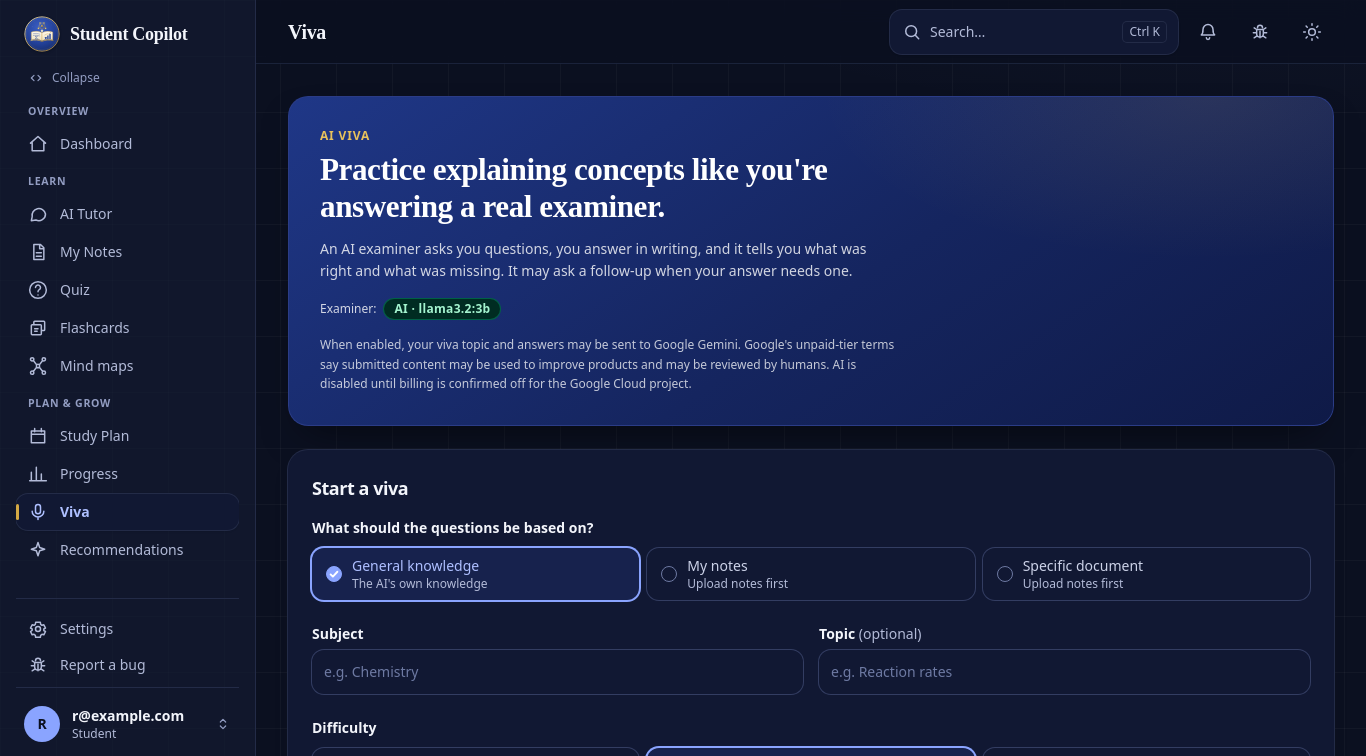
setup › shows the server's message when starting fails, and the form is still usable
Type "Chemistry" into the field labelled "Subject" at (558, 672), box [312,650,803,694]
(page scrolled)
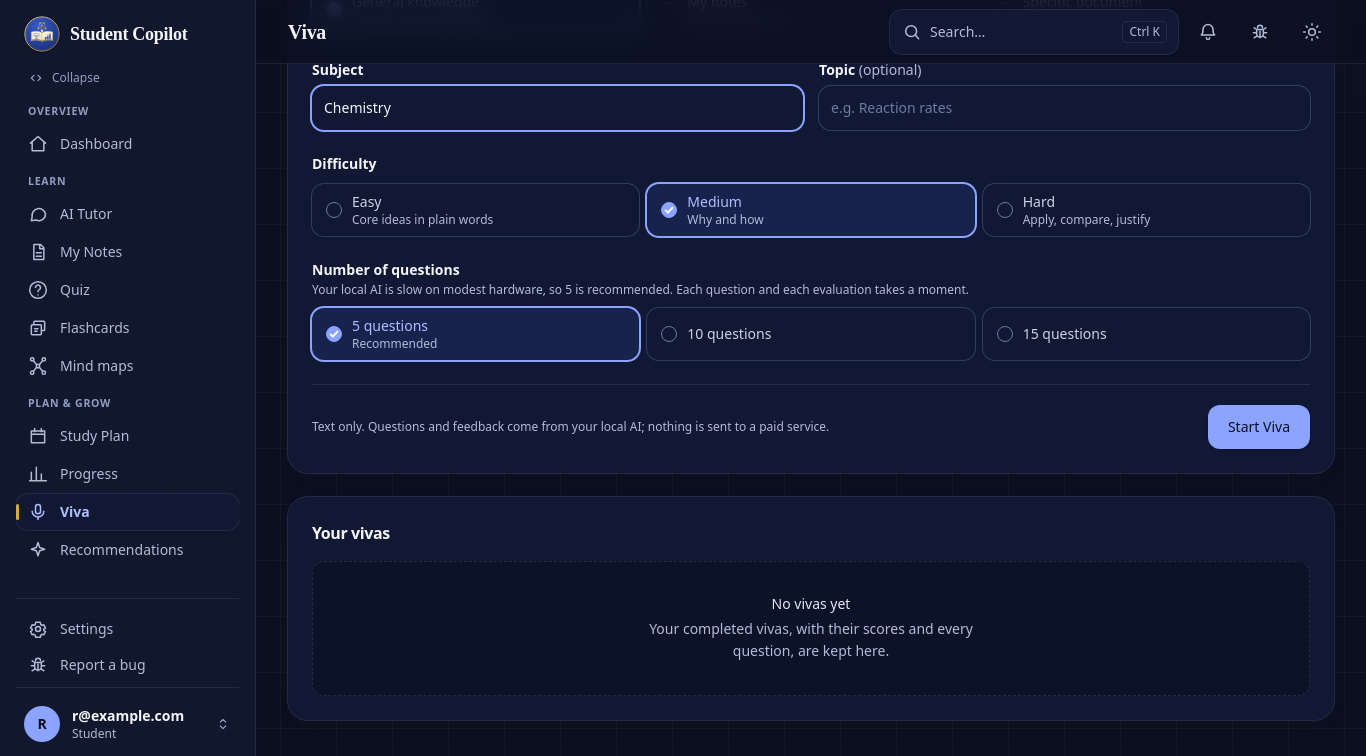
Click the button "Start Viva" at (1259, 427), box [1208,405,1310,449]
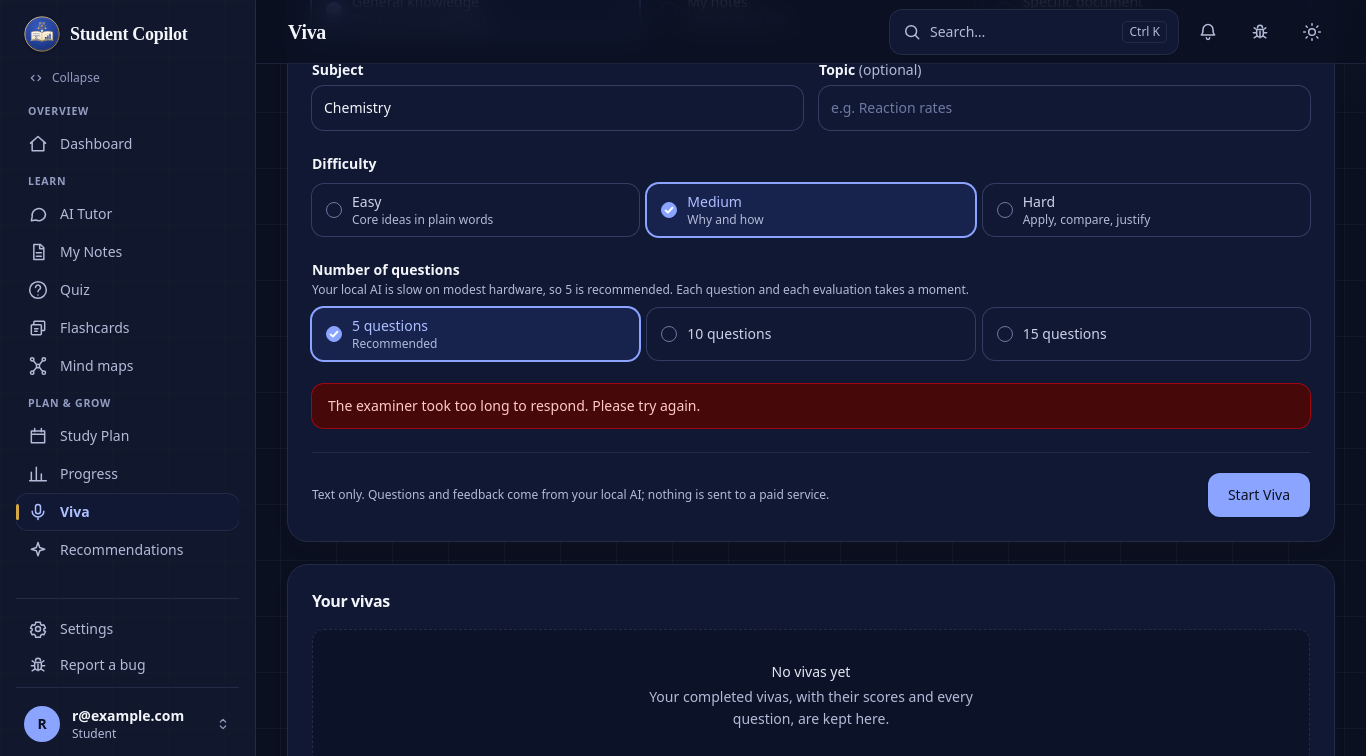
Now the text "The examiner took too long to respond. Please try again." is shown, box [312,384,1310,428]
Click the button "Start Viva" at (1259, 495), box [1208,473,1310,517]
(page scrolled)
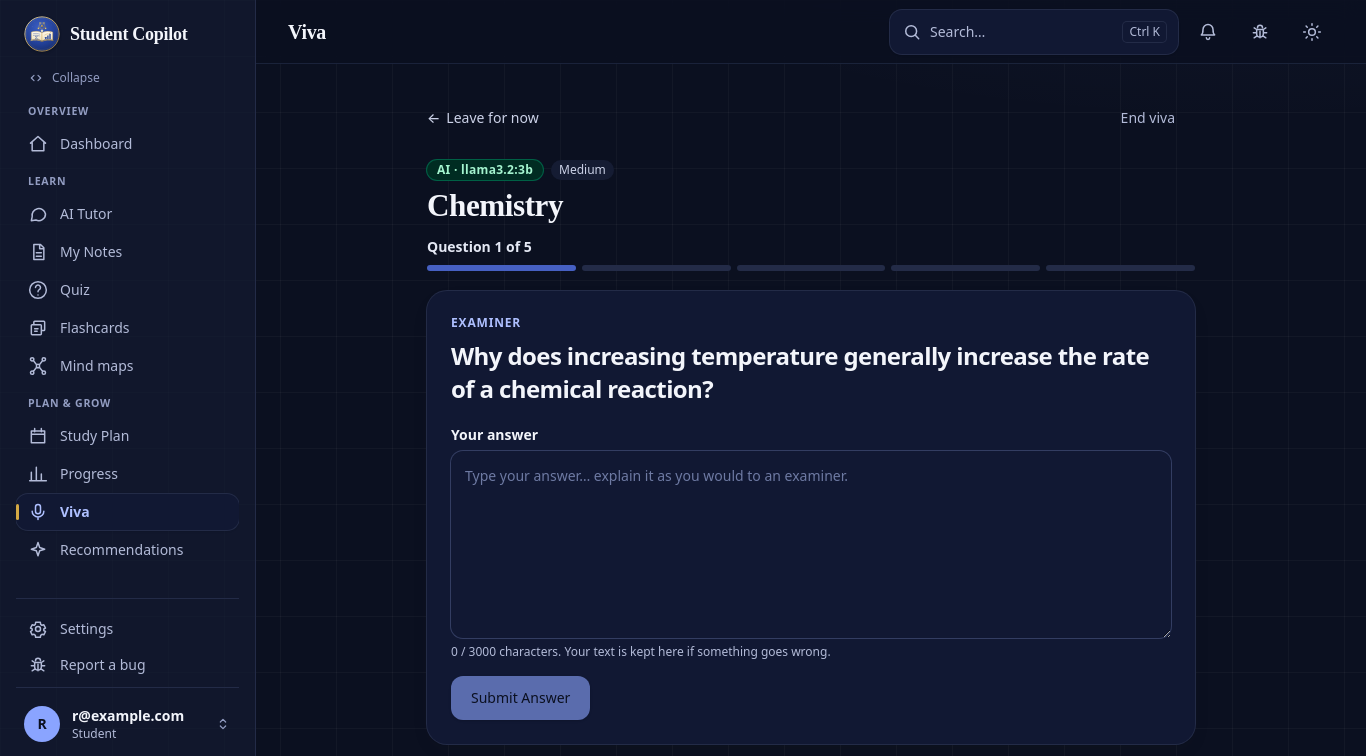
Now the text "Question 1 of 5" is shown, box [427,237,532,256]
